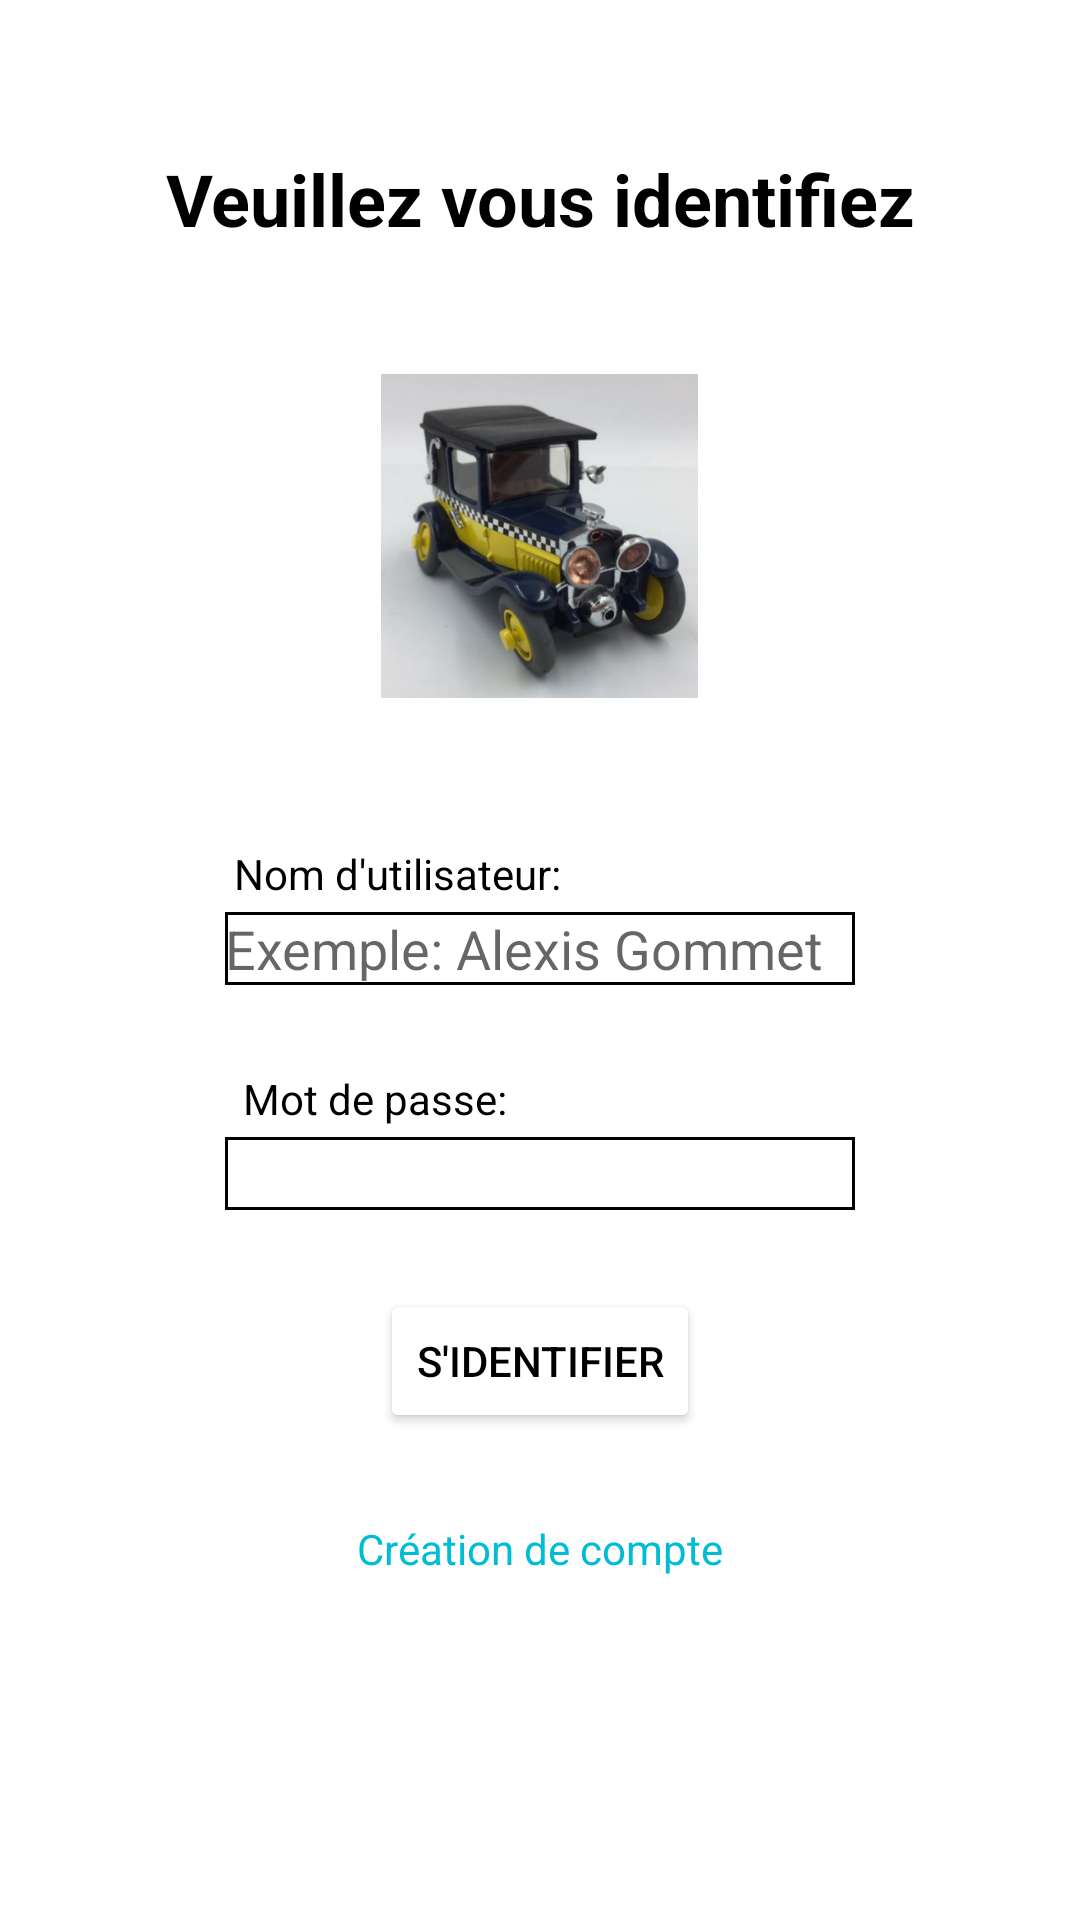

Icons on this 1080 × 1920 Android screen, each with the point to tap as (x=x, y=y):
voiture: (x=539, y=536)
